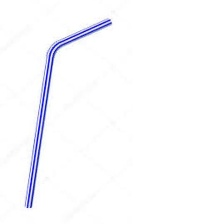drinking_straw: (20, 15, 117, 211)
